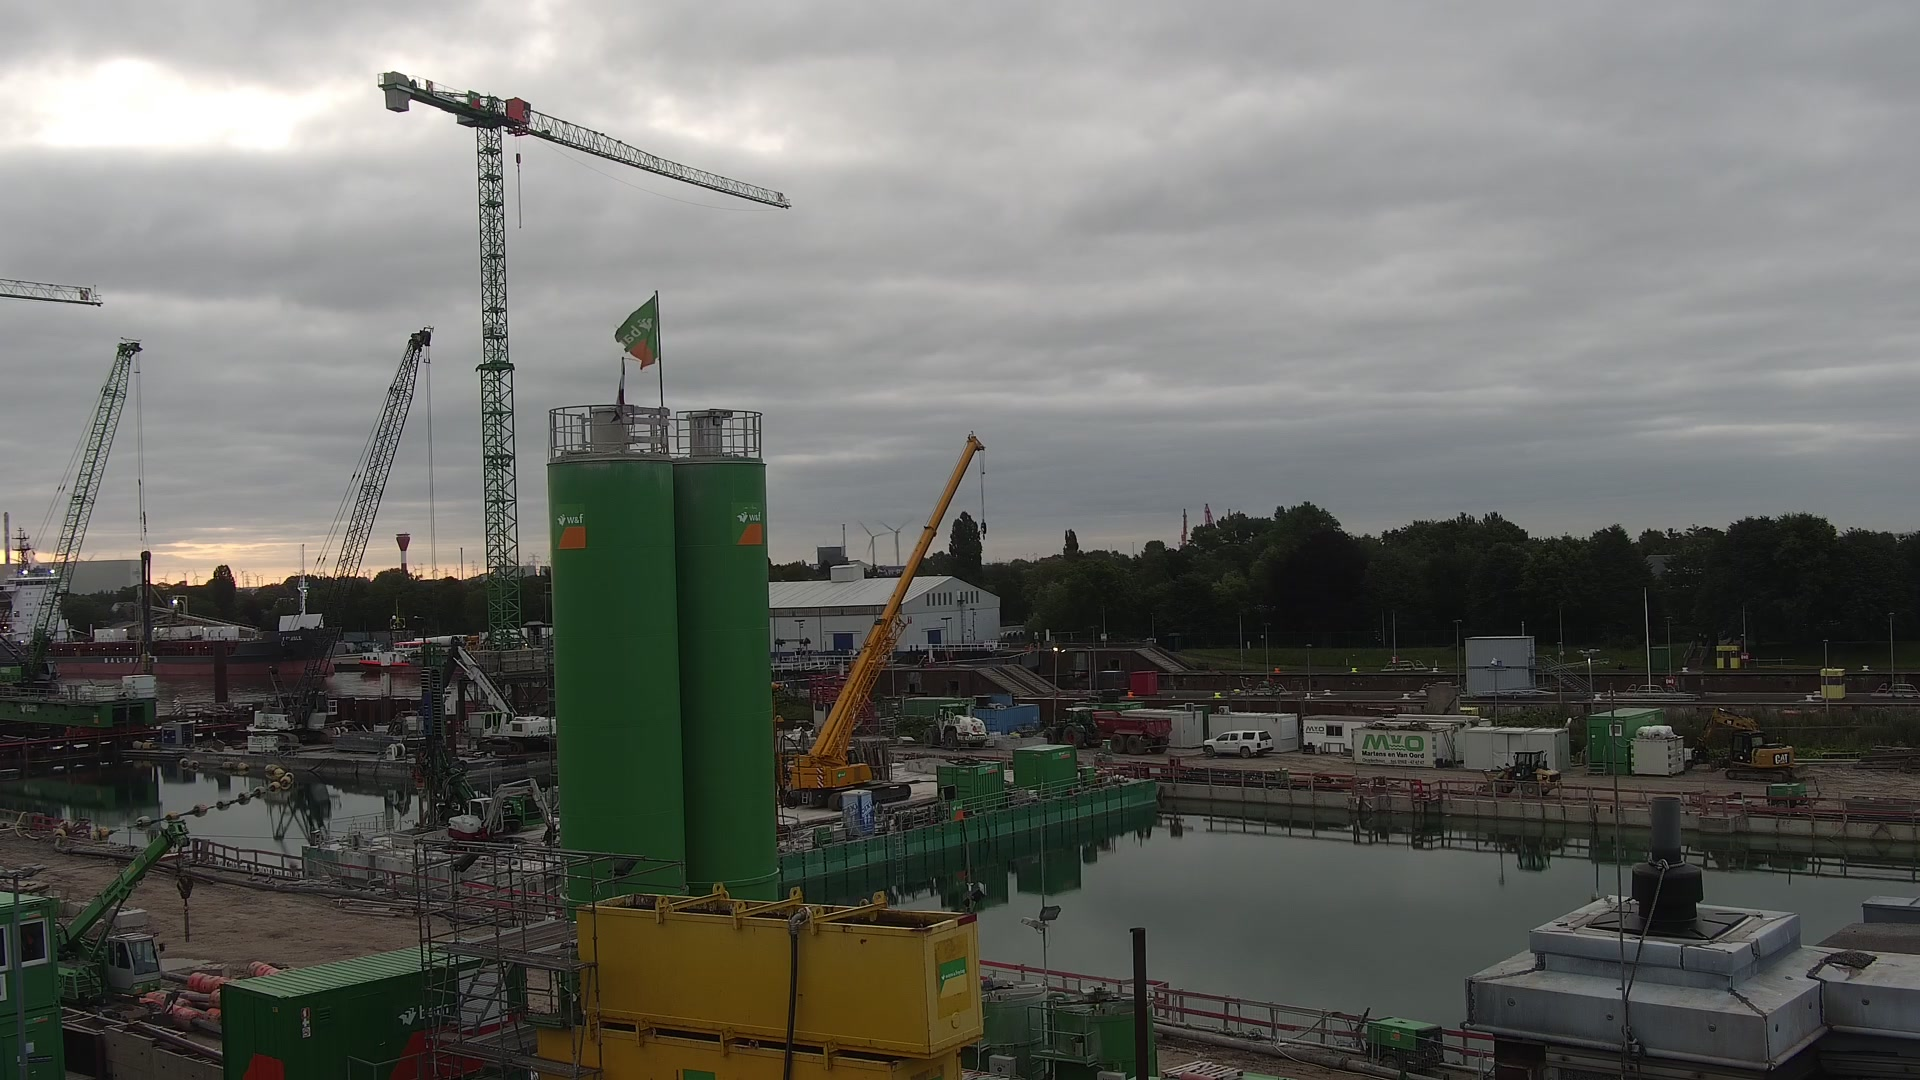land: (785, 429, 986, 811), (54, 819, 194, 1004), (442, 634, 558, 757), (1691, 705, 1795, 783), (446, 777, 556, 847), (1044, 704, 1172, 752), (1481, 748, 1561, 796), (919, 703, 988, 750), (1203, 729, 1273, 758)
sea: (1, 524, 342, 676), (356, 638, 465, 673)
